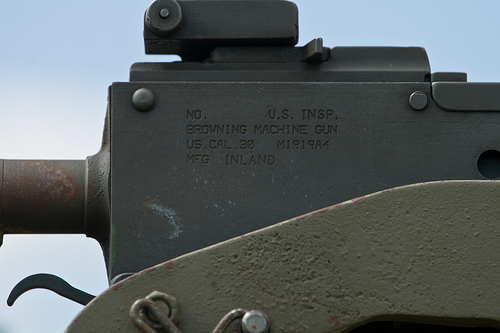rifle: (11, 10, 477, 326)
